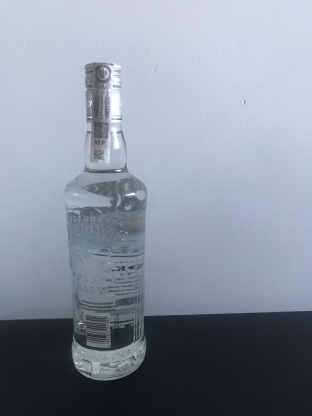nakretka: (82, 58, 125, 126)
